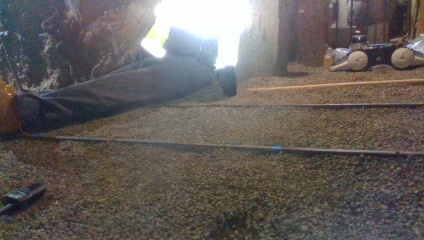manikin: (1, 0, 257, 135)
